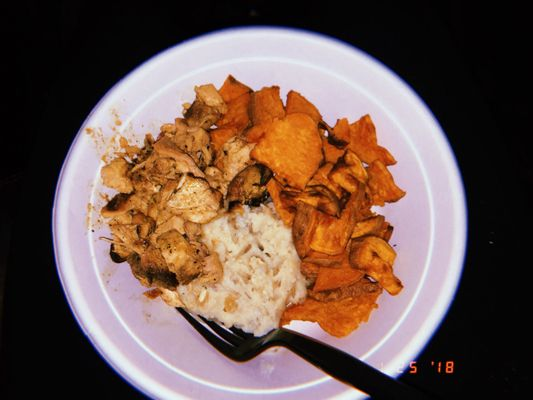burger: (173, 303, 444, 400)
